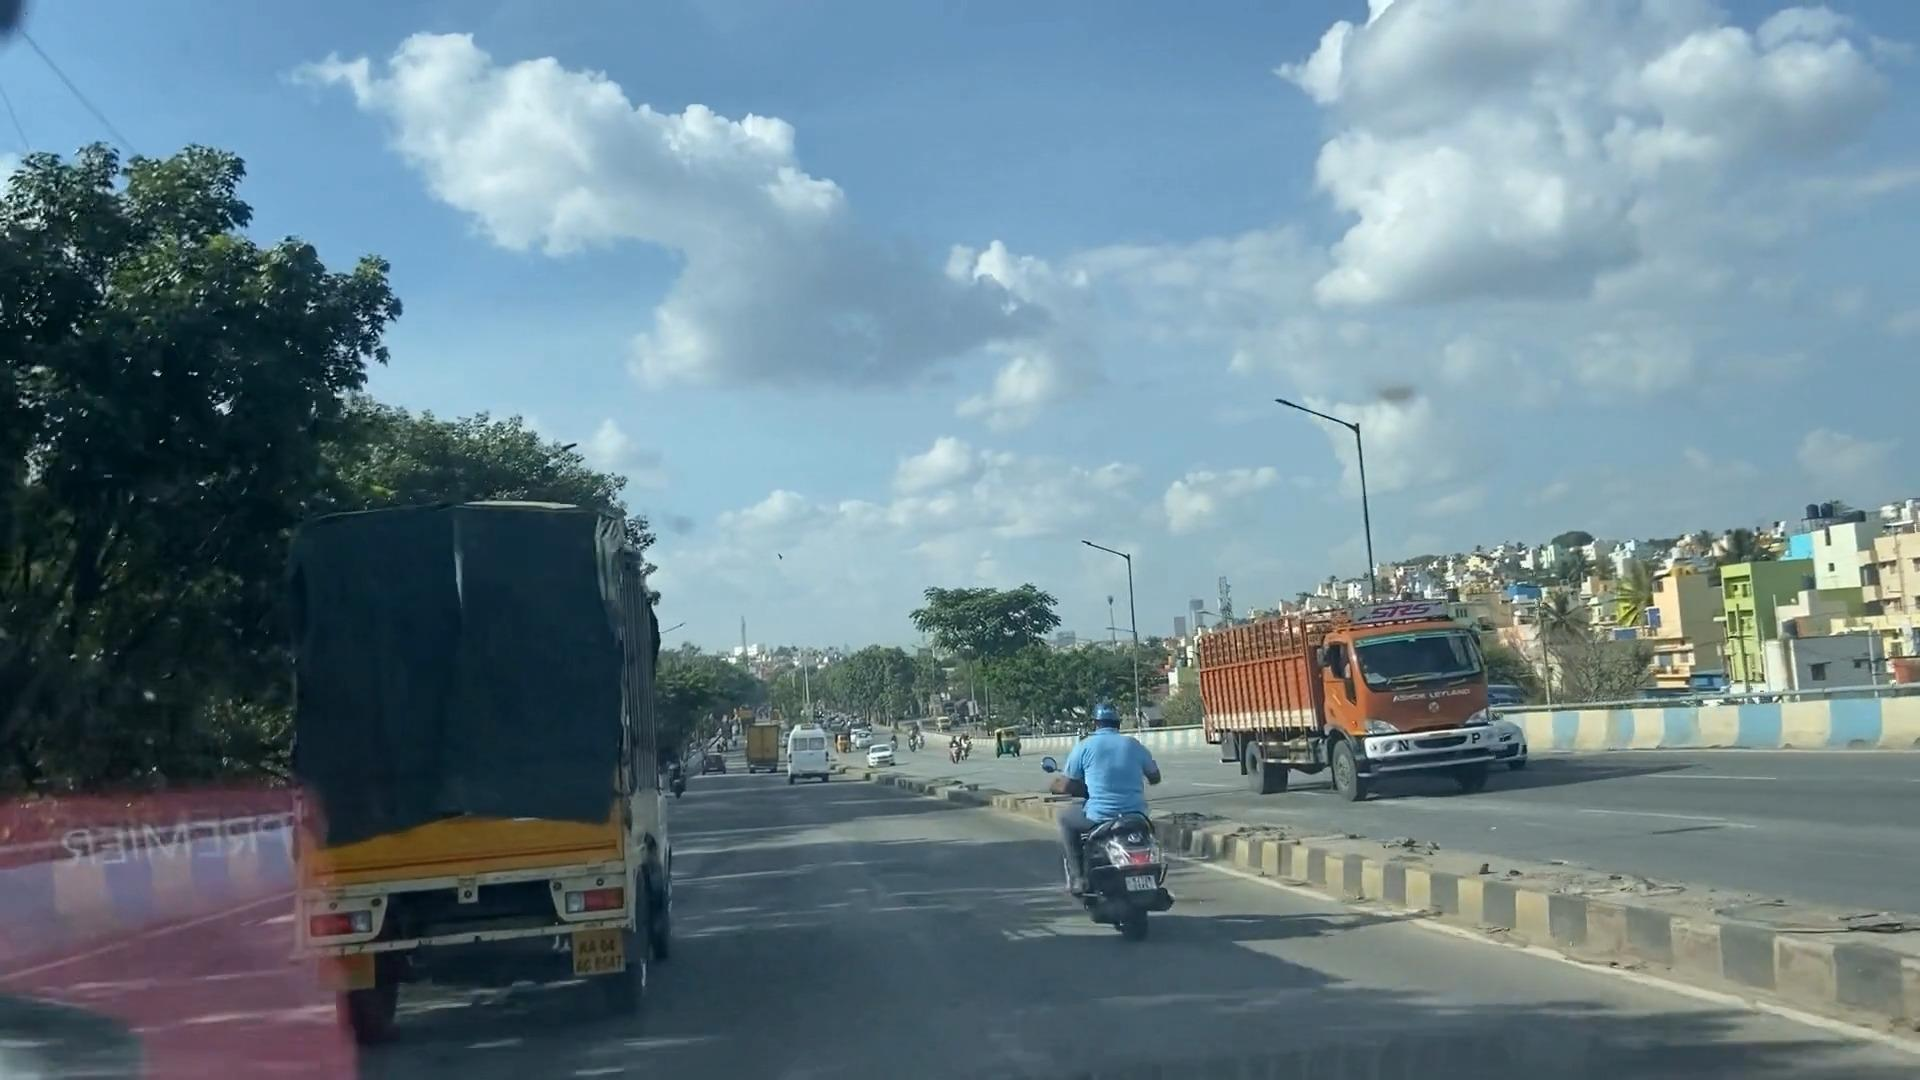HMV: (286, 463, 676, 1042)
LMV: (1029, 687, 1179, 928)
